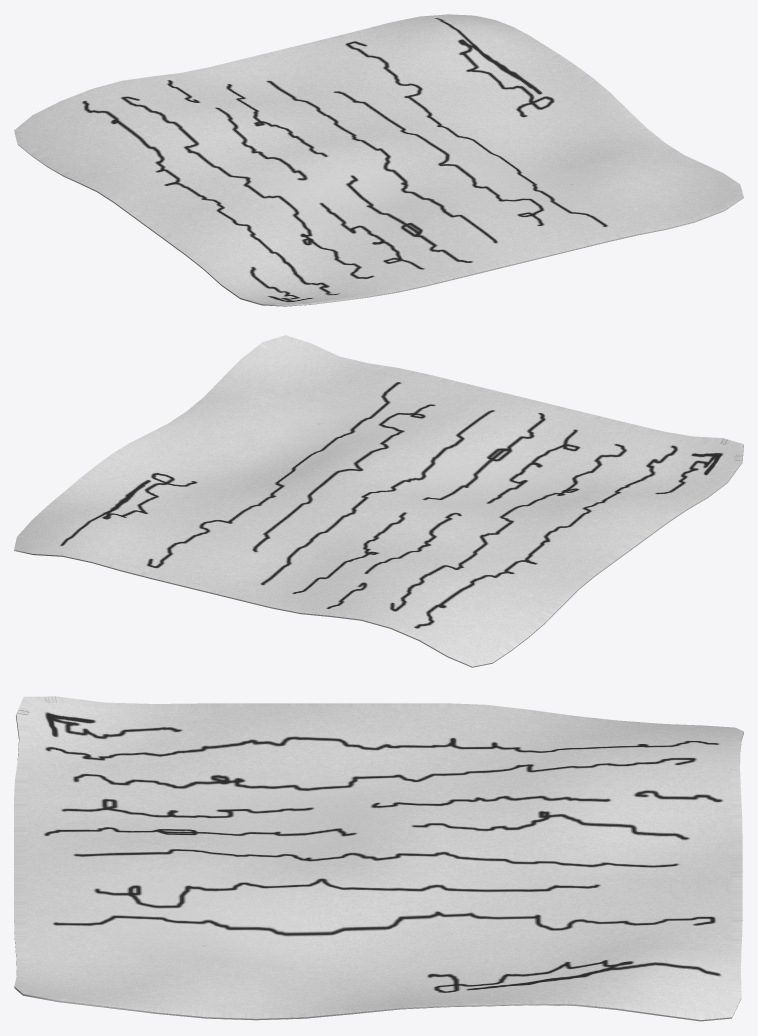
File: papier.fbx
The picture shows the model from 3 angles, top to bottom: view 1: azimuth 30°, elevation 25°; view 2: azimuth 150°, elevation 25°; view 3: azimuth 270°, elevation 25°; orthographic projection. The views are drawn at different scales.
Visible parts, largest first — view 1: pCube1; view 2: pCube1; view 3: pCube1.
Boxes of the visible parts, x1,y1,x2,y2 form: pCube1: (14,14,743,306); pCube1: (14,335,743,667); pCube1: (14,696,743,1021).
Size of the model in its own units: 1.01 by 0.0609 by 1.
